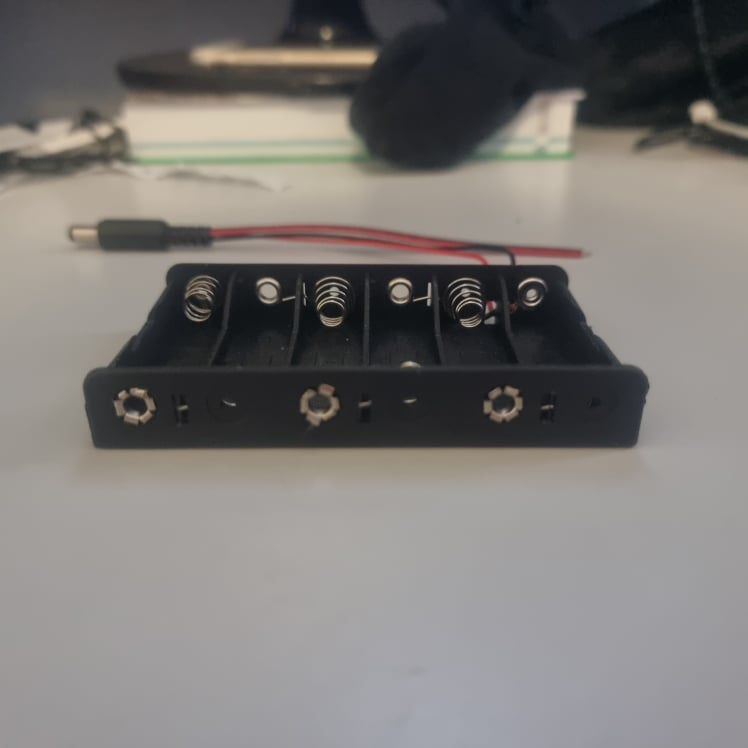BATTERY BOX: (81, 264, 649, 450)
